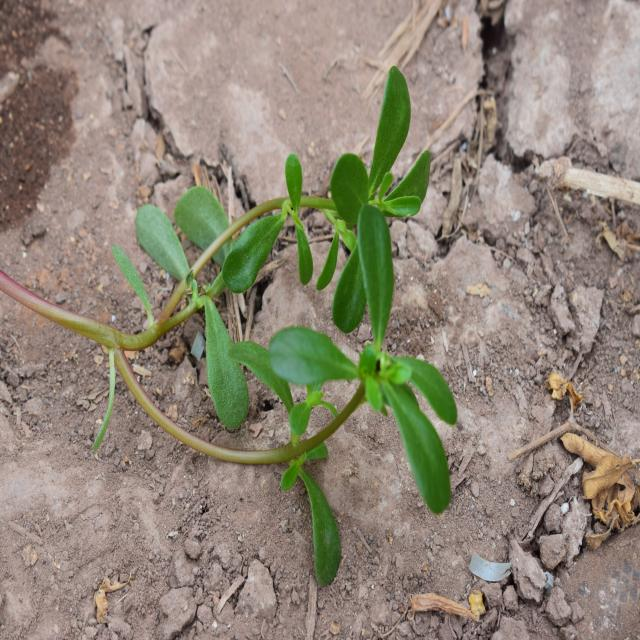purslane: (113, 78, 466, 565)
